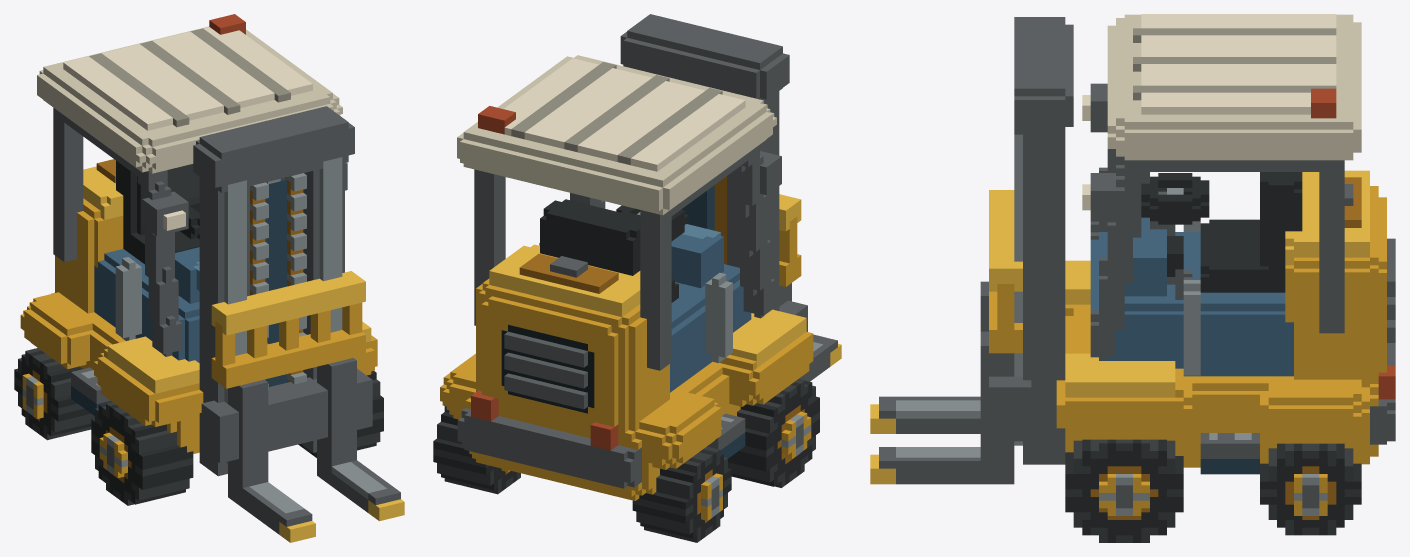
The model's file is forklift.glb.
3 views of the same model, side by side, from view 1: azimuth 30°, elevation 25°; view 2: azimuth 150°, elevation 25°; view 3: azimuth 270°, elevation 25° (orthographic). The views are drawn at different scales.
Parts seen in each view (by area): view 1: forklift; view 2: forklift; view 3: forklift.
Boxes of the visible parts, x1=… form: forklift: x1=14, y1=14, x2=404, y2=542; forklift: x1=433, y1=14, x2=841, y2=542; forklift: x1=870, y1=14, x2=1395, y2=542.
Size of the model in its own units: 2.8 by 3.85 by 4.34.
